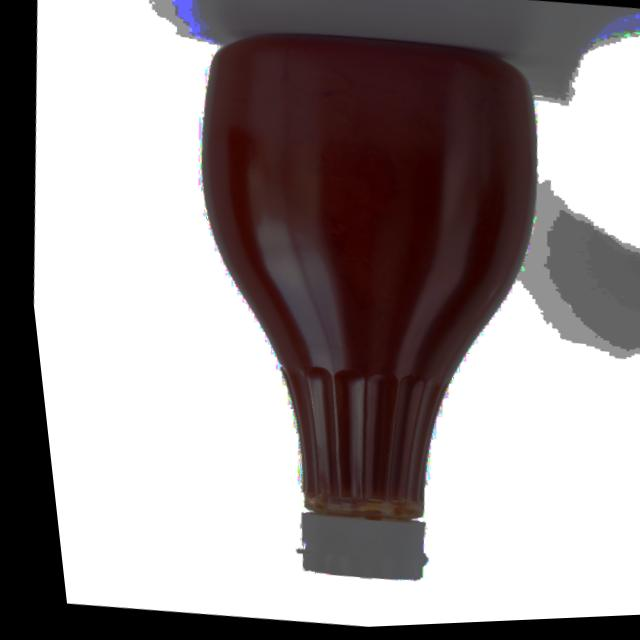ketchup: (135, 5, 602, 603)
